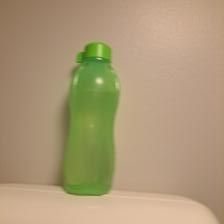bottle: (57, 39, 126, 197)
